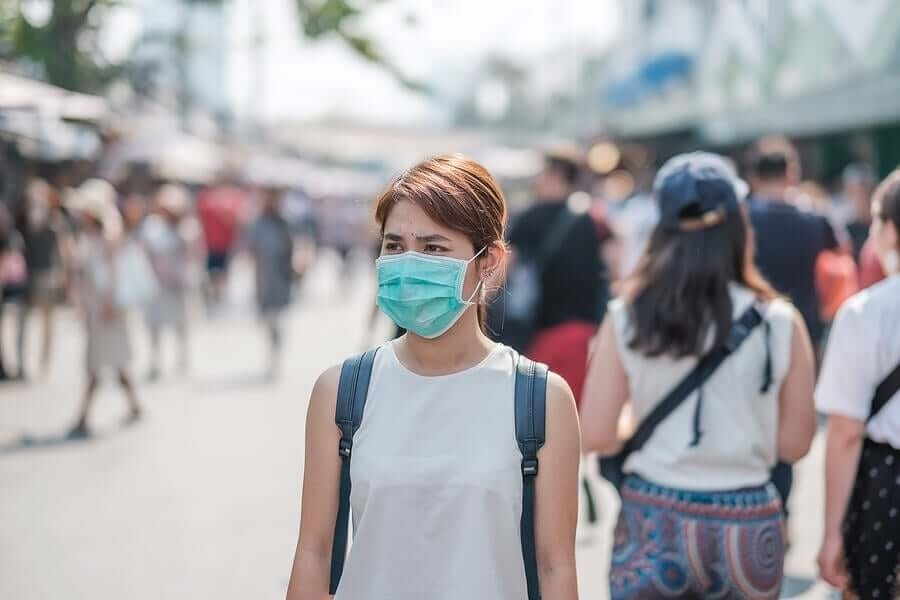face_with_mask: (365, 152, 510, 342)
